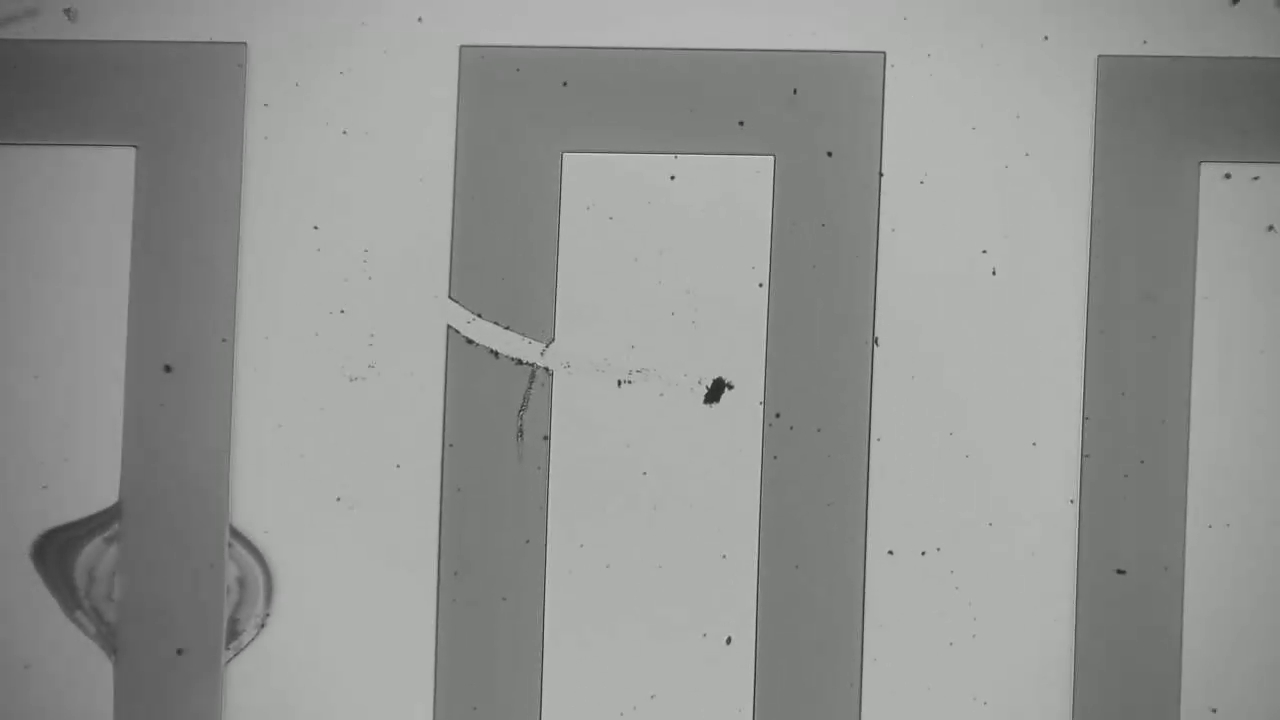Short_circuit: (429, 263, 584, 397)
